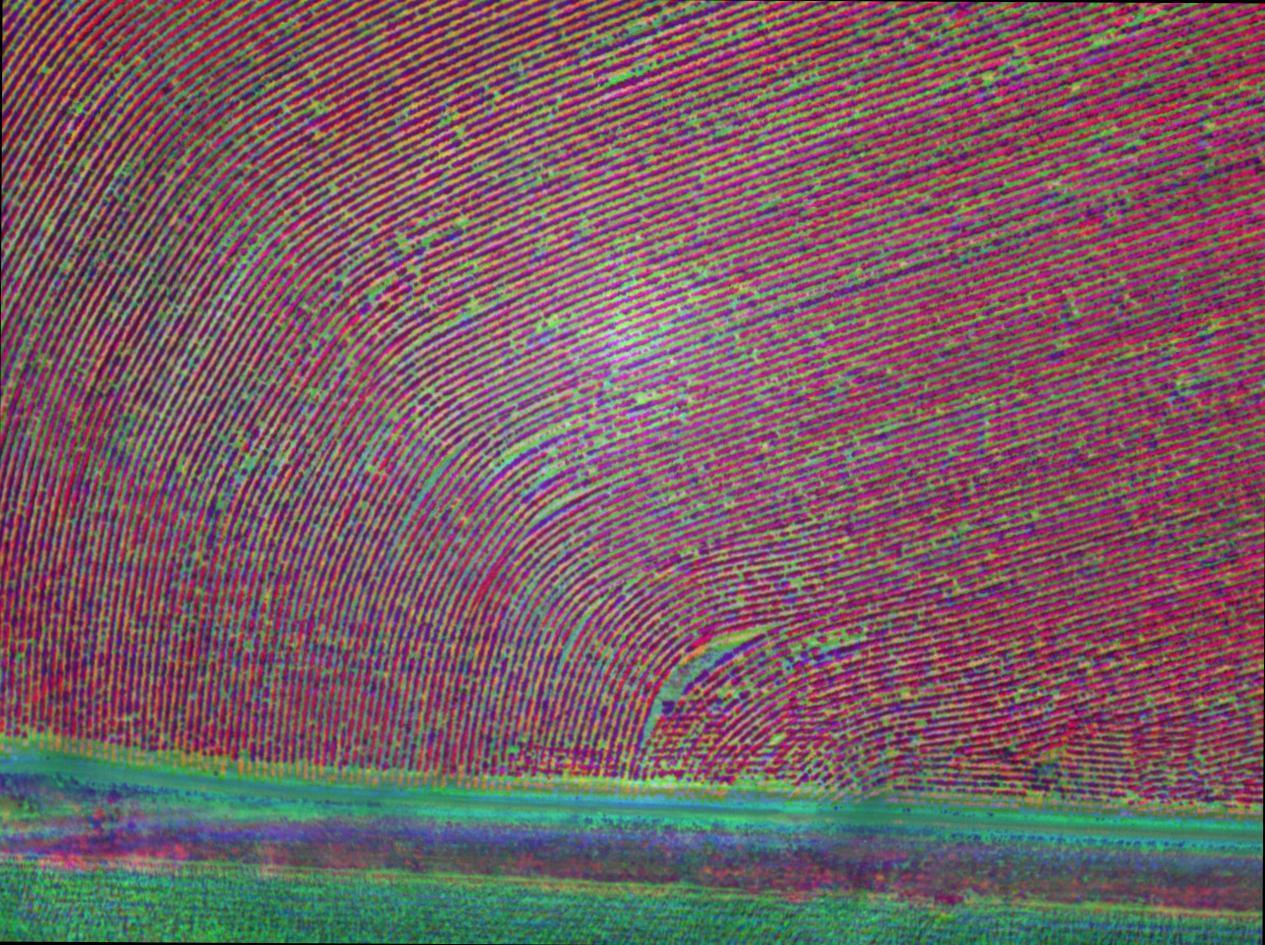dc: (581, 0, 727, 138), (411, 343, 556, 468), (593, 615, 745, 719), (71, 148, 206, 252), (58, 348, 177, 447)
